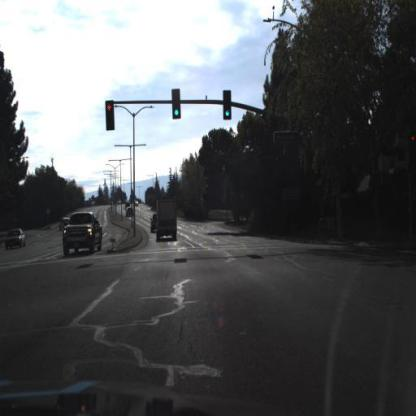car: (62, 212, 104, 257), (6, 230, 28, 252), (151, 213, 159, 236), (151, 214, 159, 235), (127, 209, 135, 220), (126, 200, 131, 208)
trafficLight: (104, 99, 118, 134)
trafficLight-Green: (223, 89, 233, 123), (172, 88, 182, 120)
trafficLight-RedLeft: (105, 99, 116, 131)
truck: (156, 198, 179, 244)
